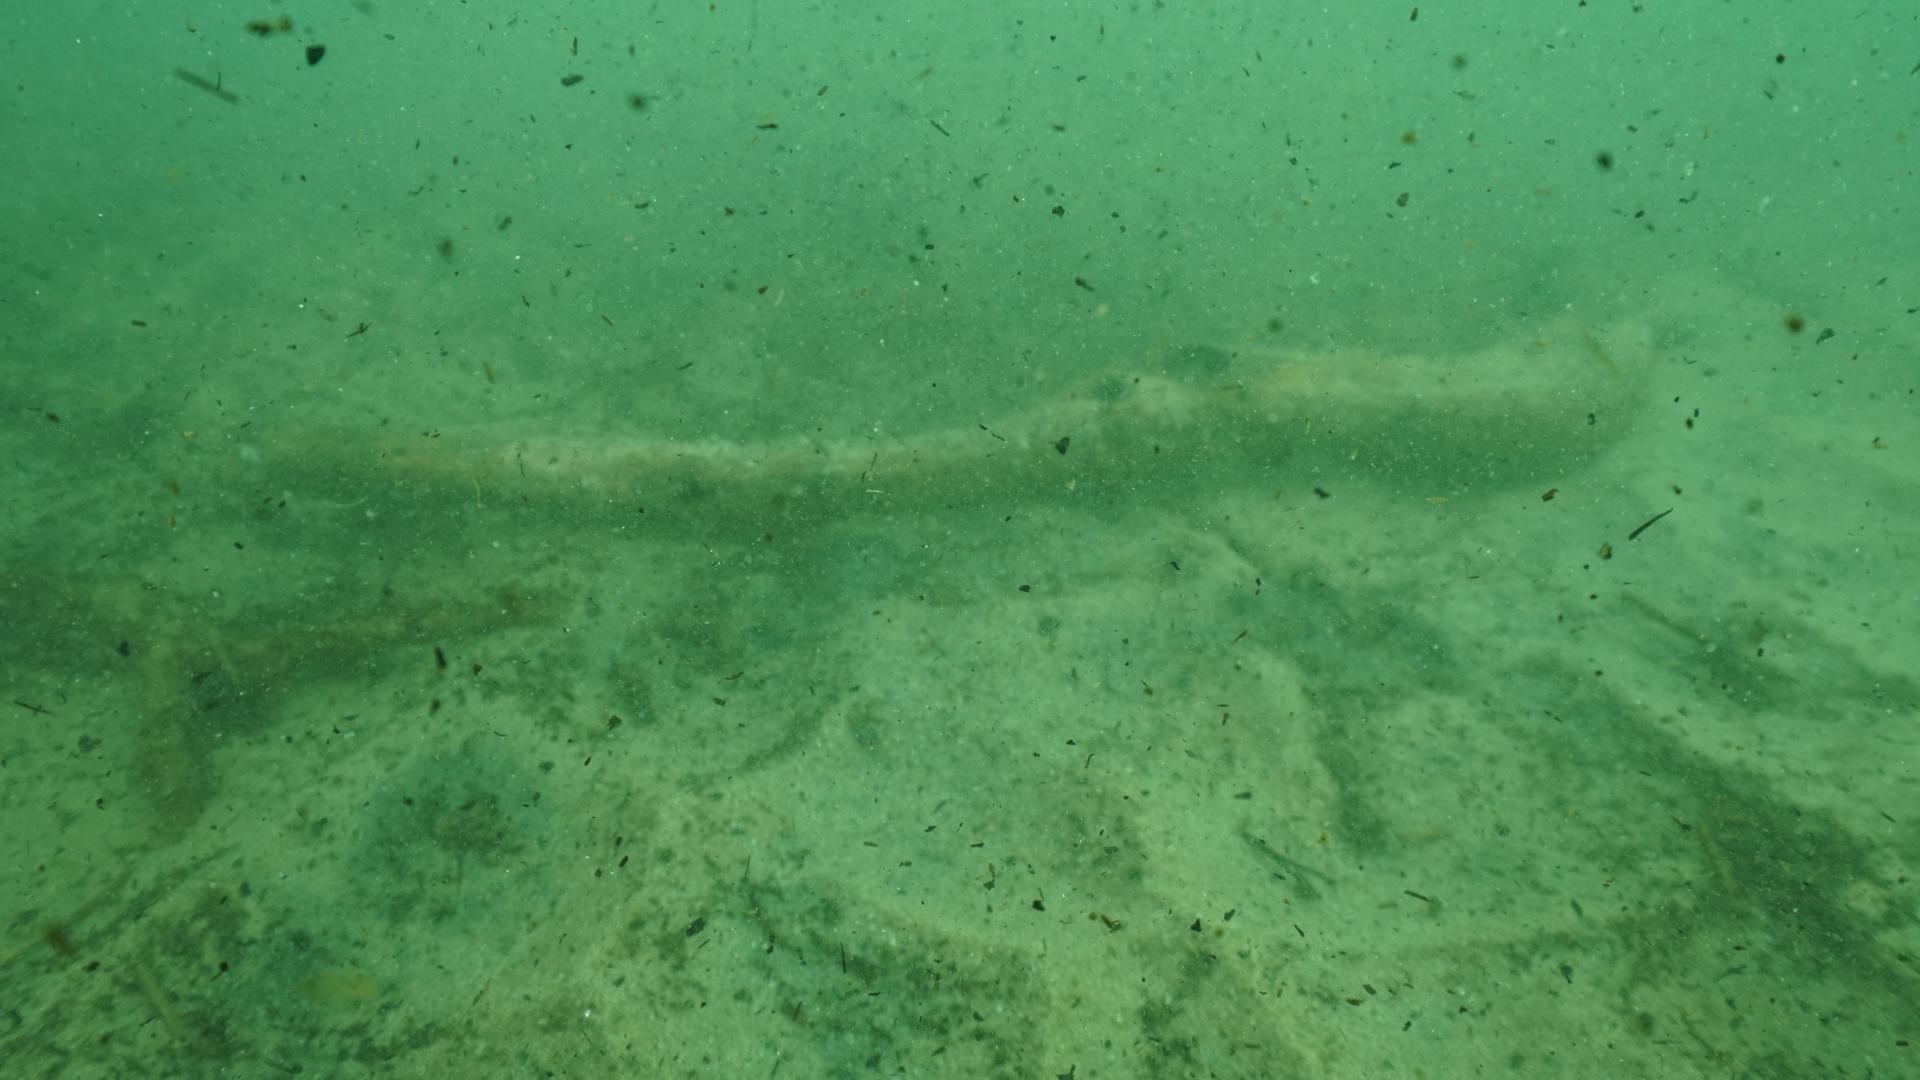wood: (239, 319, 1647, 541)
